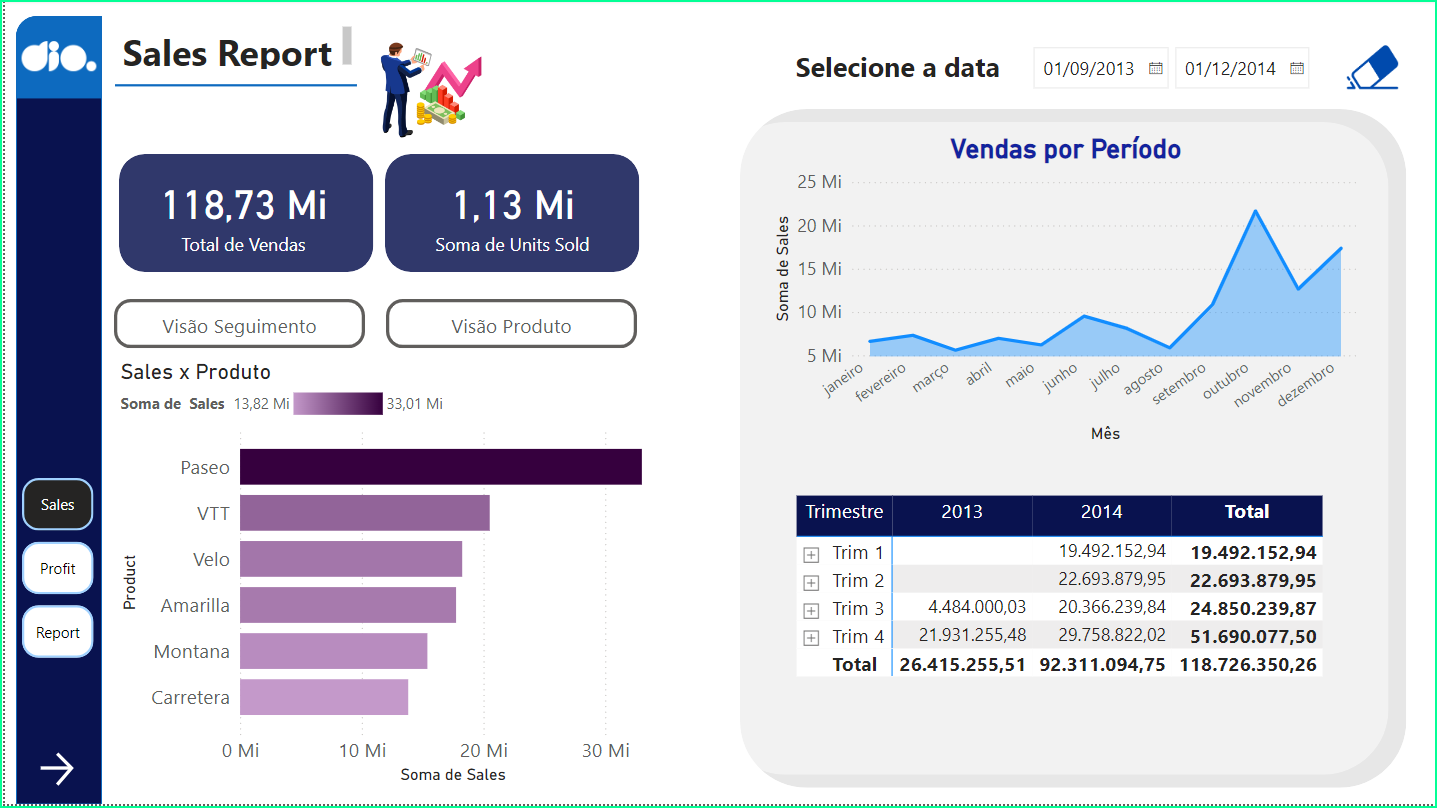

Layout of this report page (visuals, bound fields, positions):
{"tool":"powerbi","page":{"name":"Sales","canvas":[1280,720],"ordinal":0},"visuals":[{"type":"group","id":"g1","title":"Layout","box":[10.2,13.2,1269.8,706.7],"z":0},{"type":"slicer","fields":{"Values":["financials.Date"]},"box":[907.9,32.4,272.2,55.6],"z":0,"group":"g5"},{"type":"shape","box":[98.5,60.2,216.7,32.8],"z":0,"group":"g6"},{"type":"shape","box":[101.8,137.5,227.7,105.6],"z":0,"group":"g4"},{"type":"shape","box":[10.2,13.8,77.2,706.3],"z":1000,"group":"g1"},{"type":"textbox","box":[99.9,18.8,215.2,48.5],"z":1000,"group":"g6"},{"type":"textbox","box":[702.6,38.1,199.6,45.6],"z":1000,"group":"g5"},{"type":"areaChart","title":"Vendas por Período","fields":{"Category":["financials.Date.Variation.Hierarquia de datas.Ano","financials.Date.Variation.Hierarquia de datas.Mês"],"Y":["Sum(financials. Sales)"]},"box":[683.3,119.1,533.6,282.1],"z":1000,"group":"g3"},{"type":"shape","box":[340.1,137.5,227.7,105.6],"z":1000,"group":"g4"},{"type":"actionButton","title":"Botão - Next","box":[25.9,669,48.8,39.6],"z":1000},{"type":"shape","box":[10.2,13.8,77.2,73.8],"z":2000,"group":"g1"},{"type":"actionButton","box":[1194.4,36.7,59.9,51.3],"z":2000,"group":"g5"},{"type":"group","id":"g2","title":"Sales x Segmento","box":[96,268,522,446],"z":2000},{"type":"image","title":"logo_dio","box":[10.2,18.8,77.2,62.1],"z":3000,"group":"g1"},{"type":"image","title":"clean","box":[1194.4,32.4,59.9,55.6],"z":3000,"group":"g5"},{"type":"shape","box":[657.8,97.8,596.7,607.9],"z":3000},{"type":"clusteredBarChart","title":"Sales x Produto","fields":{"Y":["Sum(financials. Sales)"],"Category":["financials.Product"]},"box":[98.5,321.4,520.5,385.6],"z":3500,"group":"g2"},{"type":"actionButton","title":"Botão - Seguimento","box":[98.1,268,224.8,44],"z":3750,"group":"g2"},{"type":"shape","box":[87.1,13.2,1193.1,74.1],"z":4000,"group":"g1"},{"type":"shape","box":[640.5,109,598.8,584.5],"z":4000},{"type":"actionButton","title":"Botão - produto","box":[341,268,224.8,44],"z":4000,"group":"g2"},{"type":"card","fields":{"Values":["Sum(financials. Sales)"]},"box":[107.6,137.9,212.1,105.4],"z":5000,"group":"g4"},{"type":"pivotTable","fields":{"Rows":["financials.Date.Variation.Hierarquia de datas.Trimestre","financials.Date.Variation.Hierarquia de datas.Mês"],"Values":["Sum(financials. Sales)"],"Columns":["financials.Date.Variation.Hierarquia de datas.Ano"]},"box":[703.6,438.9,490.8,176.2],"z":5000},{"type":"group","id":"g3","title":"Perspectiva temporal das vendas","box":[683.3,119.1,533.6,282.1],"z":6000},{"type":"card","fields":{"Values":["Sum(financials.Units Sold)"]},"box":[347.8,137.9,212.1,105.4],"z":6000,"group":"g4"},{"type":"group","id":"g4","title":"Cartões","box":[101.8,137.5,466.4,105.9],"z":7000},{"type":"group","id":"g5","title":"Filtro por data","box":[702.6,32.4,552.3,55.3],"z":8000},{"type":"group","id":"g6","title":"Title report","box":[98.5,-0.5,378.5,162.9],"z":9000},{"type":"pageNavigator","box":[15.3,427.7,64.2,162.9],"z":10000},{"type":"image","box":[312,-0.5,165,162.9],"z":10001,"group":"g6"}]}

Visuals, with their boxes in screenshot pixels (x1, y1, x2, y2), scaled from the page's 1280x720 canvas onto the 1437x808 screenshot:
"Layout" group: detection(11, 15, 1436, 807)
slicer - financials.Date: detection(1019, 36, 1325, 99)
shape: detection(111, 68, 354, 104)
shape: detection(114, 154, 370, 273)
shape: detection(11, 15, 98, 807)
textbox: detection(112, 21, 354, 76)
textbox: detection(789, 43, 1013, 94)
"Vendas por Período" areaChart: detection(767, 134, 1366, 450)
shape: detection(382, 154, 637, 273)
"Botão - Next" actionButton: detection(29, 751, 84, 795)
shape: detection(11, 15, 98, 98)
actionButton: detection(1341, 41, 1408, 99)
"Sales x Segmento" group: detection(108, 301, 694, 801)
"logo_dio" image: detection(11, 21, 98, 91)
"clean" image: detection(1341, 36, 1408, 99)
shape: detection(738, 110, 1408, 792)
"Sales x Produto" clusteredBarChart: detection(111, 361, 695, 793)
"Botão - Seguimento" actionButton: detection(110, 301, 363, 350)
shape: detection(98, 15, 1436, 98)
shape: detection(719, 122, 1391, 778)
"Botão - produto" actionButton: detection(383, 301, 635, 350)
card - Sum(financials. Sales): detection(121, 155, 359, 273)
pivotTable - financials.Date.Variation.Hierarquia de datas.Trimestre x financials.Date.Variation.Hierarquia de datas.Mês: detection(790, 493, 1341, 690)
"Perspectiva temporal das vendas" group: detection(767, 134, 1366, 450)
card - Sum(financials.Units Sold): detection(390, 155, 629, 273)
"Cartões" group: detection(114, 154, 638, 273)
"Filtro por data" group: detection(789, 36, 1409, 98)
"Title report" group: detection(111, 0, 536, 182)
pageNavigator: detection(17, 480, 89, 663)
image: detection(350, 0, 536, 182)
